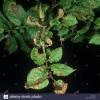Potato leaf late blight: (24, 66, 50, 91), (3, 0, 27, 26), (70, 3, 94, 21), (29, 48, 47, 66), (50, 65, 77, 75), (48, 47, 63, 64), (51, 79, 68, 93), (61, 13, 78, 26)
